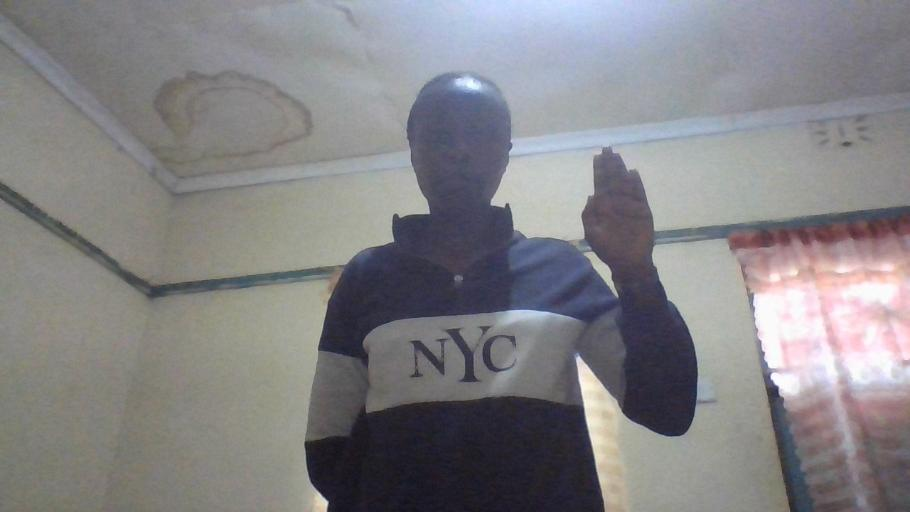stop: (580, 143, 655, 270)
